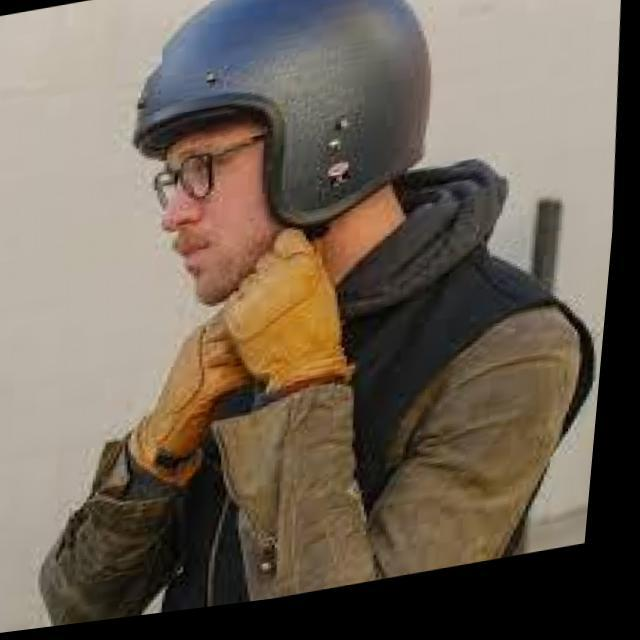Helmet: (122, 0, 450, 309)
